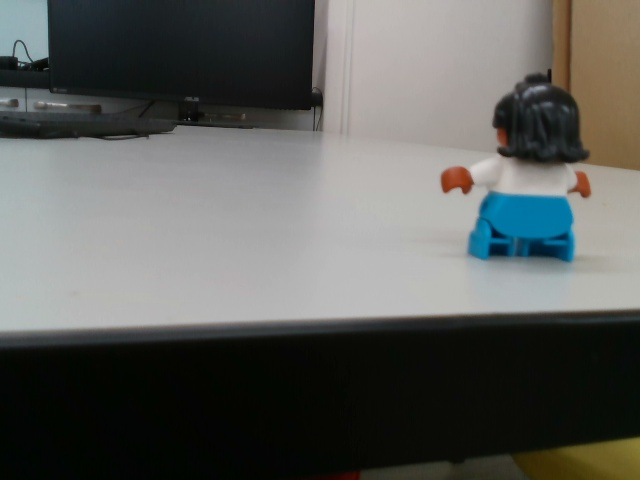people: (438, 77, 596, 267)
